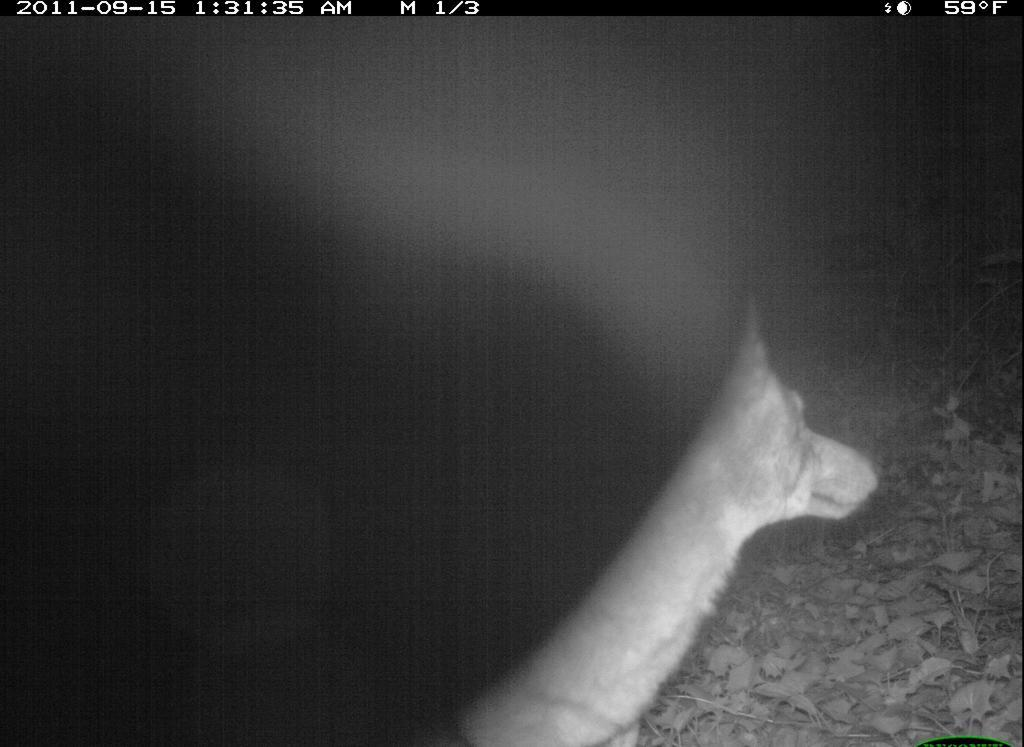coyote: (423, 289, 903, 734)
